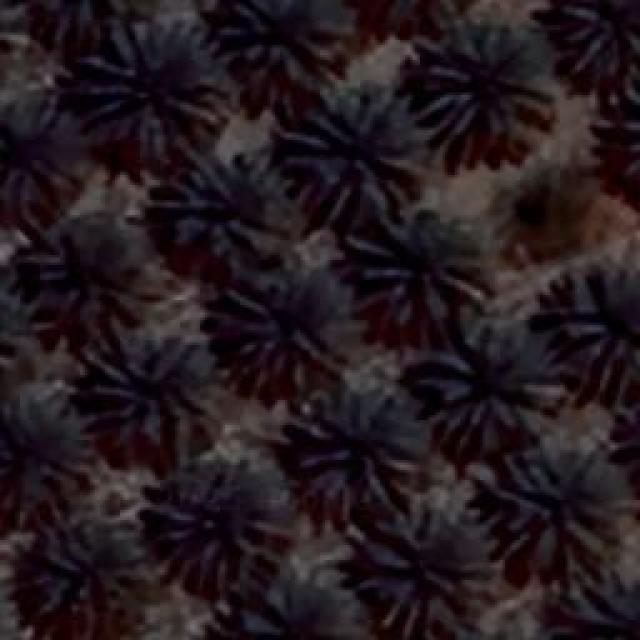PalmTree: (141, 448, 294, 584), (82, 20, 228, 155), (410, 20, 555, 155), (215, 248, 350, 386), (420, 318, 570, 440), (280, 87, 420, 215), (360, 500, 488, 635), (352, 195, 486, 323), (88, 325, 222, 450), (295, 382, 423, 510), (27, 524, 155, 636), (30, 228, 158, 338), (162, 147, 282, 260), (494, 454, 608, 558), (555, 255, 635, 398), (225, 0, 348, 85), (5, 397, 83, 525), (214, 574, 358, 638), (587, 88, 640, 213), (555, 0, 635, 78), (81, 15, 132, 102), (570, 580, 640, 640), (0, 271, 31, 394), (344, 0, 483, 26), (415, 620, 561, 640), (615, 388, 640, 502), (410, 625, 566, 640), (0, 277, 19, 393), (622, 387, 640, 505), (42, 102, 81, 155), (0, 0, 24, 84)
